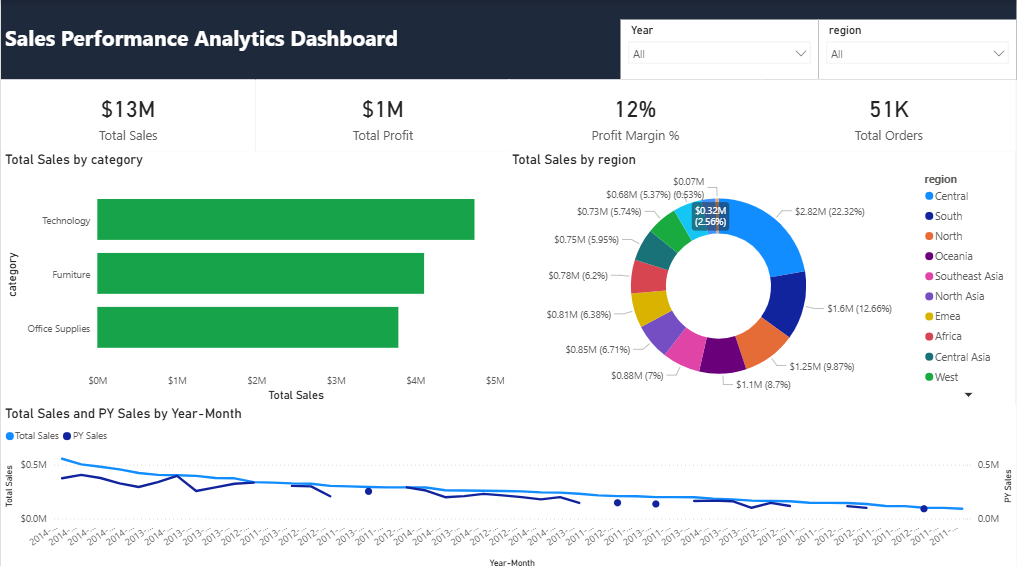

Layout of this report page (visuals, bound fields, positions):
{"tool":"powerbi","page":{"name":"Page 1","canvas":[1280,720],"ordinal":0},"visuals":[{"type":"shape","box":[0,0,1279.4,100],"z":0},{"type":"card","fields":{"Values":["All_Measures.Total Sales"]},"box":[0,100.2,320,90.7],"z":1000},{"type":"card","fields":{"Values":["All_Measures.Total Profit"]},"box":[321.3,100.2,320,90.7],"z":2000},{"type":"card","fields":{"Values":["All_Measures.Profit Margin %"]},"box":[638.7,100.2,320,90.7],"z":3000},{"type":"card","fields":{"Values":["All_Measures.Total Orders"]},"box":[958.1,100.2,320,90.7],"z":4000},{"type":"lineChart","fields":{"Category":["Dim_date.Year-Month"],"Y":["All_Measures.Total Sales"],"Y2":["All_Measures.PY Sales"]},"box":[0,510.2,1279.4,209.8],"z":5000},{"type":"clusteredBarChart","fields":{"Category":["Dim_product.category"],"Y":["All_Measures.Total Sales"]},"box":[0,190.9,638.7,319],"z":6000},{"type":"donutChart","fields":{"Category":["Dim_location.region"],"Y":["All_Measures.Total Sales"]},"box":[638.7,190.9,638.7,319],"z":7000},{"type":"slicer","fields":{"Values":["Dim_date.Year"]},"box":[780.5,24.6,249.5,75.6],"z":8000},{"type":"slicer","fields":{"Values":["Dim_location.region"]},"box":[1029.9,24.6,249.5,75.6],"z":9000},{"type":"textbox","box":[0,24.6,580.2,54.8],"z":10000}]}

Visuals, with their boxes in screenshot pixels (x1, y1, x2, y2), scaled from the page's 1280x720 canvas onto the 1017x566 screenshot:
shape: (0, 0, 1016, 79)
card - All_Measures.Total Sales: (0, 79, 254, 150)
card - All_Measures.Total Profit: (255, 79, 510, 150)
card - All_Measures.Profit Margin %: (507, 79, 762, 150)
card - All_Measures.Total Orders: (761, 79, 1015, 150)
lineChart - Dim_date.Year-Month x All_Measures.Total Sales: (0, 401, 1016, 565)
clusteredBarChart - Dim_product.category x All_Measures.Total Sales: (0, 150, 507, 401)
donutChart - Dim_location.region x All_Measures.Total Sales: (507, 150, 1015, 401)
slicer - Dim_date.Year: (620, 19, 818, 79)
slicer - Dim_location.region: (818, 19, 1016, 79)
textbox: (0, 19, 461, 62)
